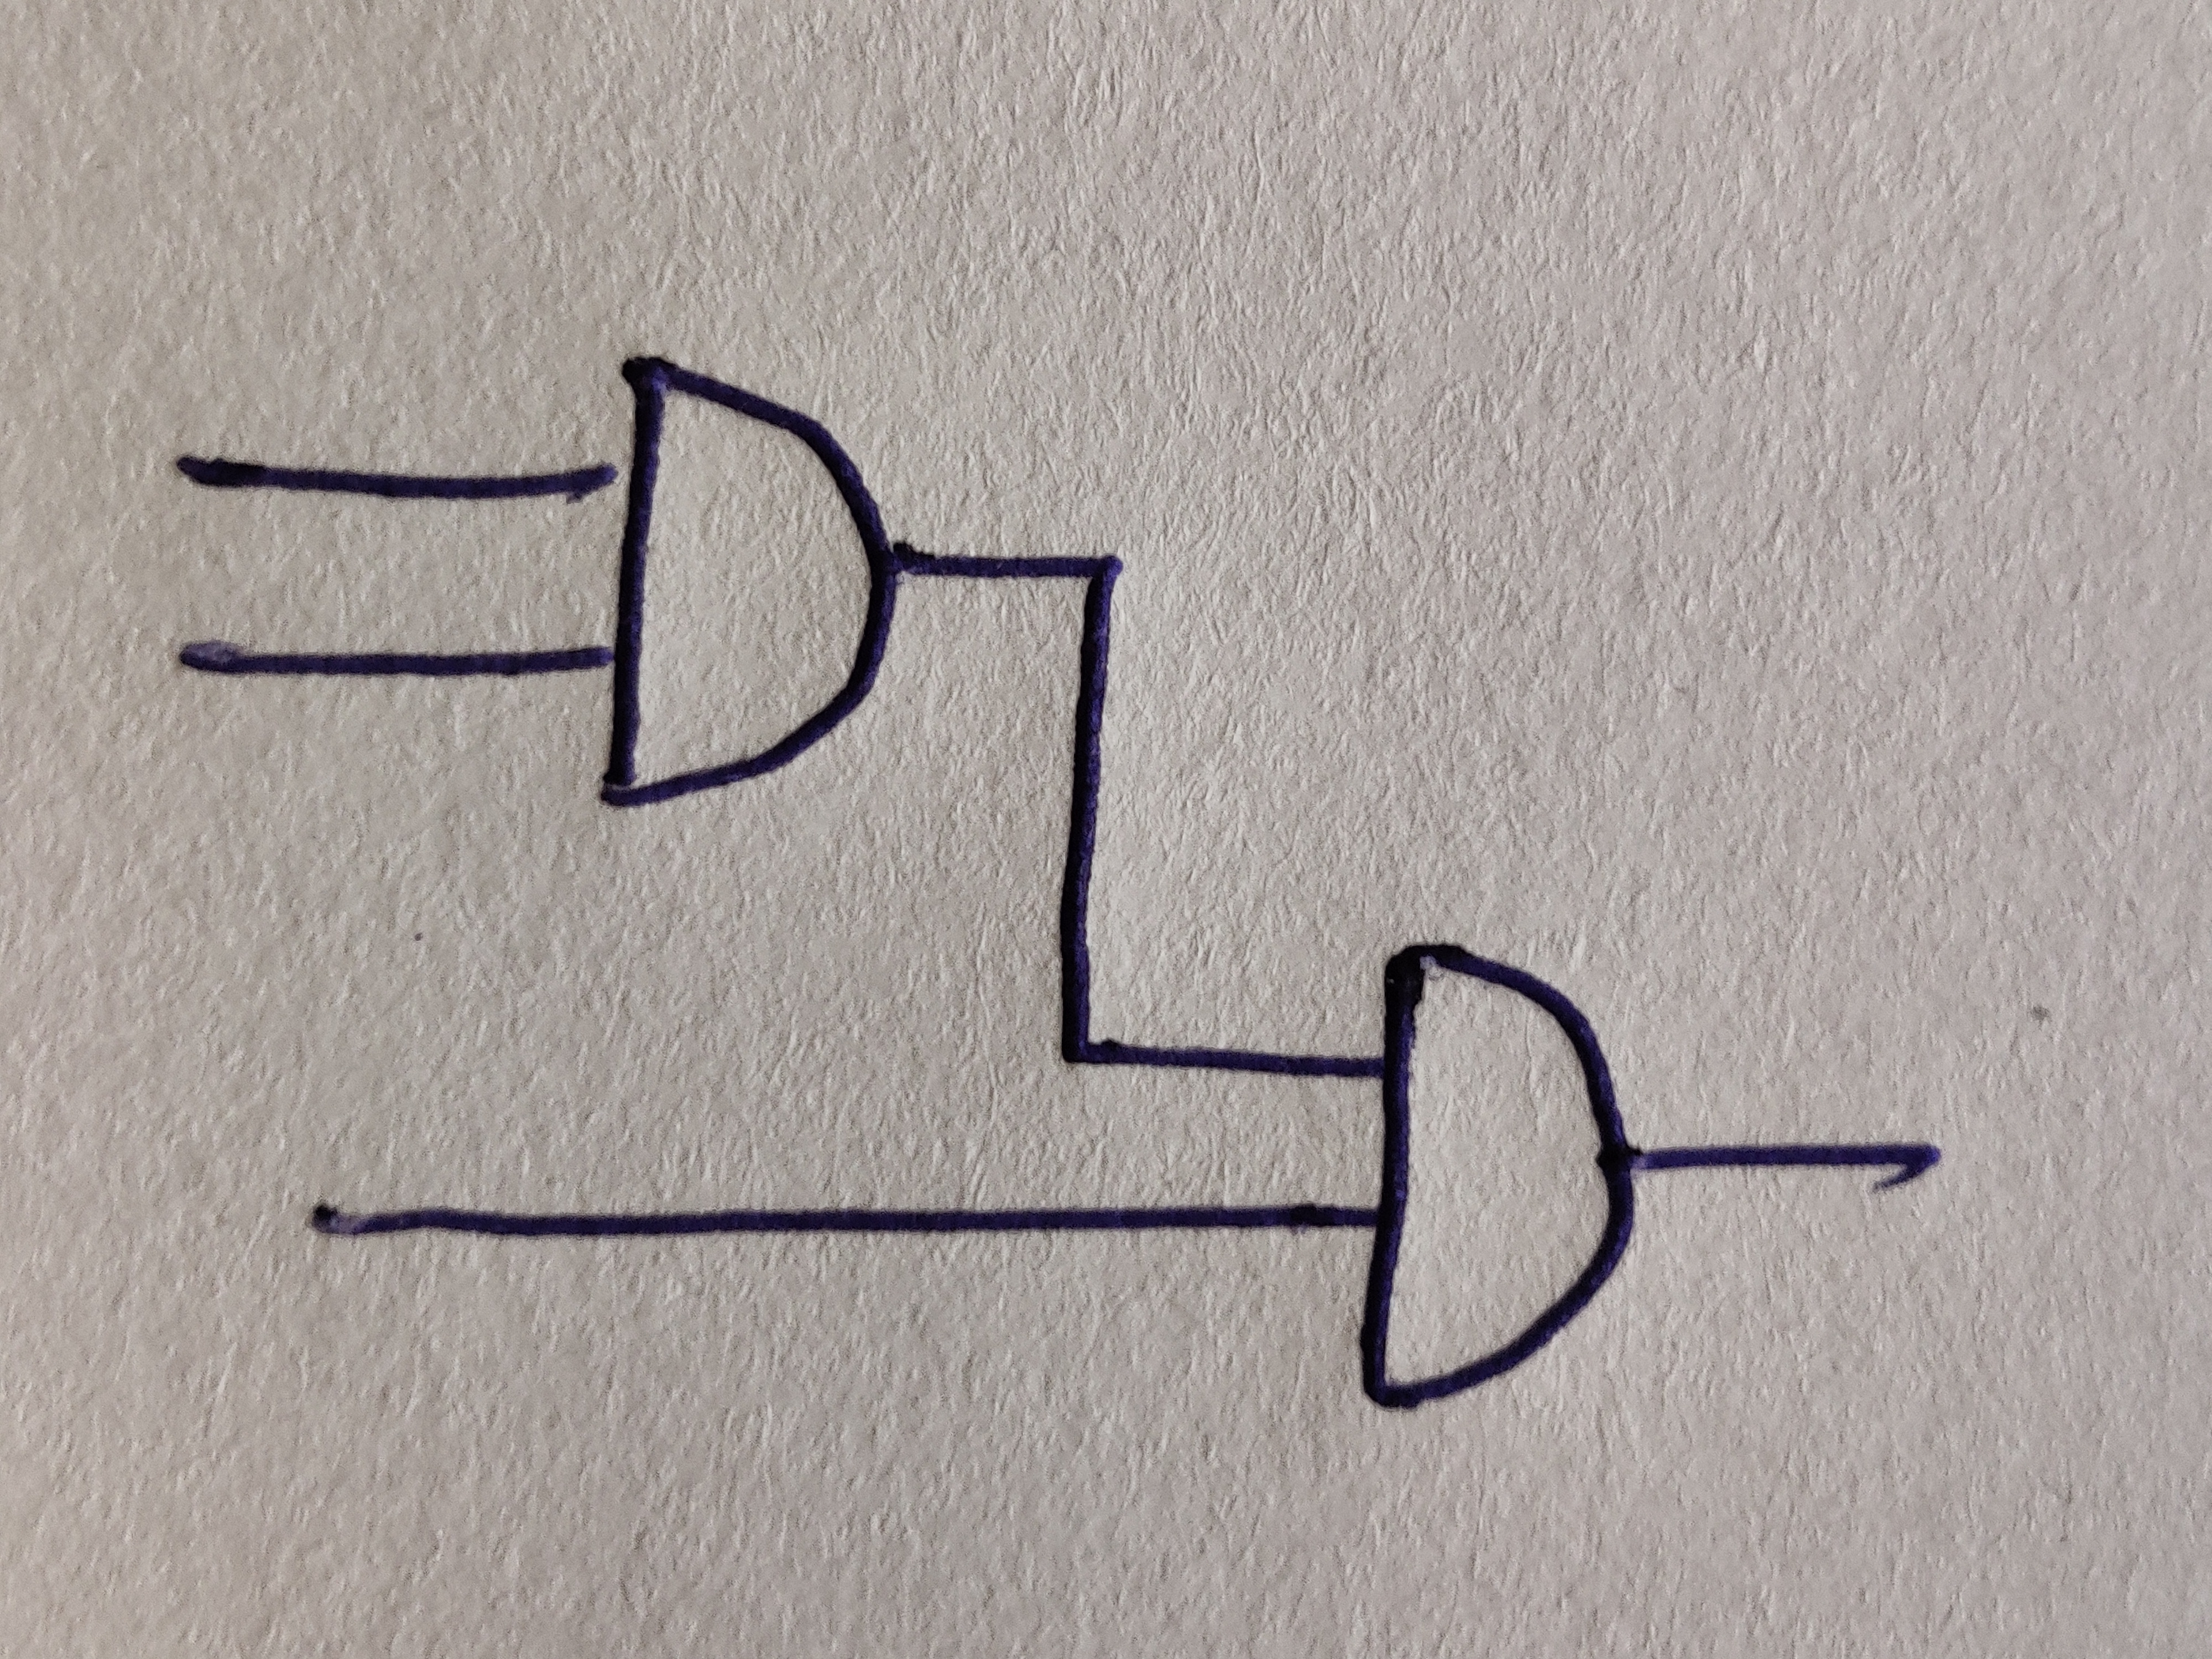and: (599, 356, 895, 814), (1357, 943, 1634, 1413)
